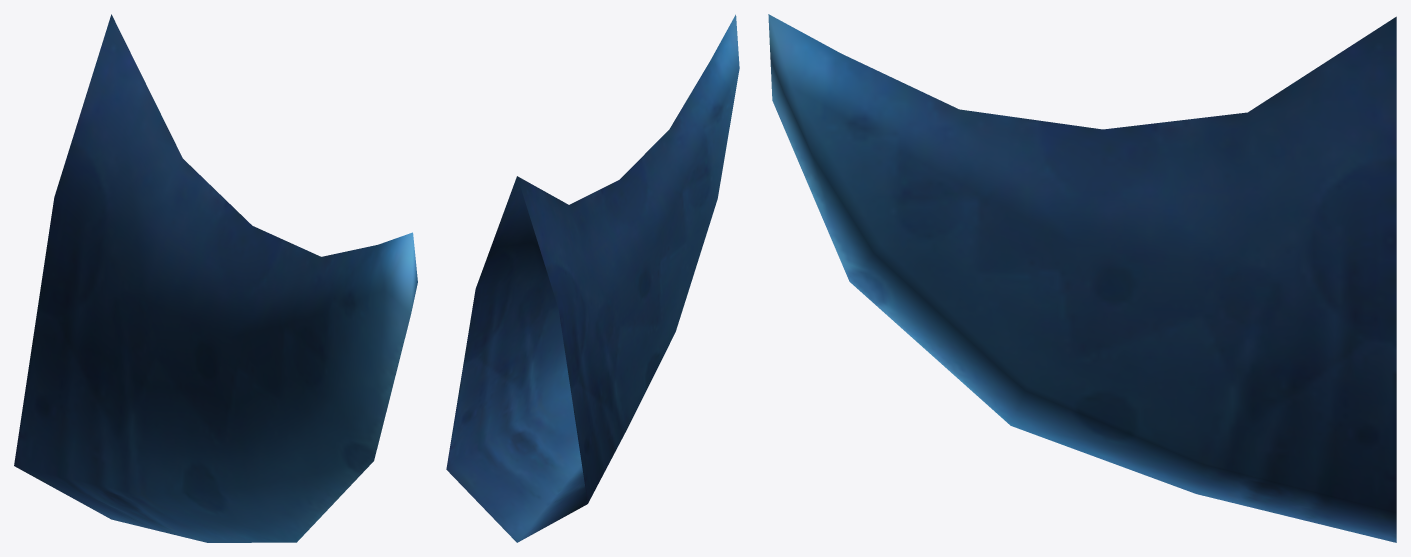
File: Fin_41b54344__Fin_982673f4_c1f257.obj
The picture shows the model from 3 angles, left to right: view 1: azimuth 30°, elevation 25°; view 2: azimuth 150°, elevation 25°; view 3: azimuth 270°, elevation 25°; orthographic projection. The views are drawn at different scales.
Size of the model in its own units: 0.4475 by 1.11 by 1.2.
1 material, 1 textured.
